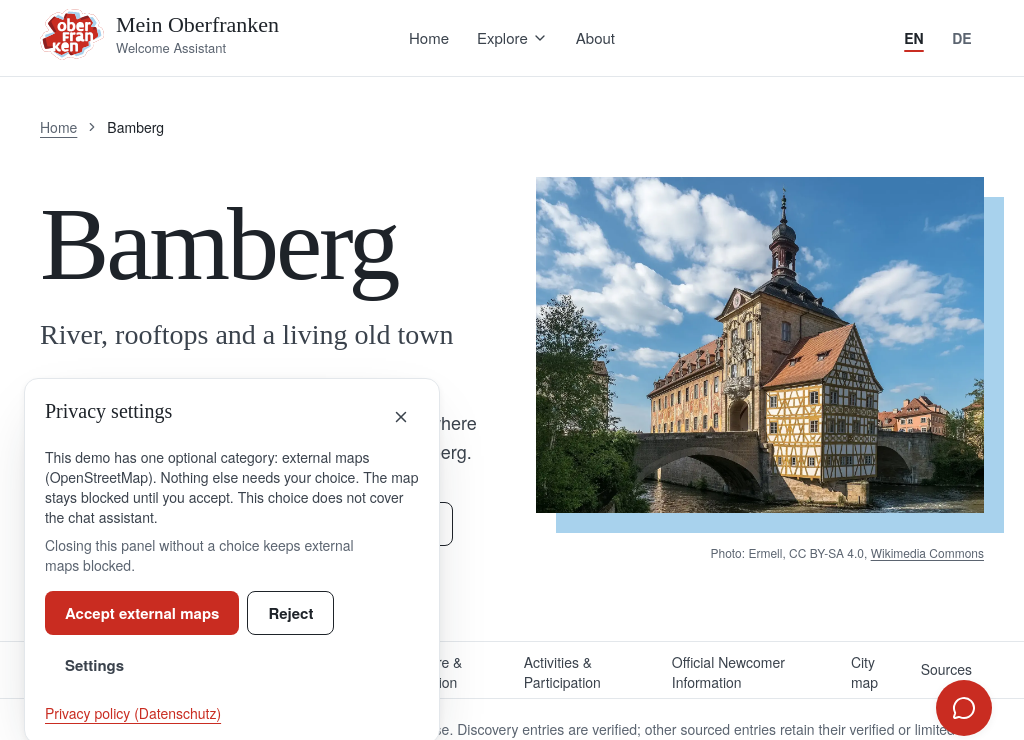
catalog-driven discovery on bamberg › in de › shows every restaurant with all required facts, exactly as the catalog has them
Click the button with aria-label "Deutsch" at (962, 38), box [940,16,984,60]
(page scrolled)
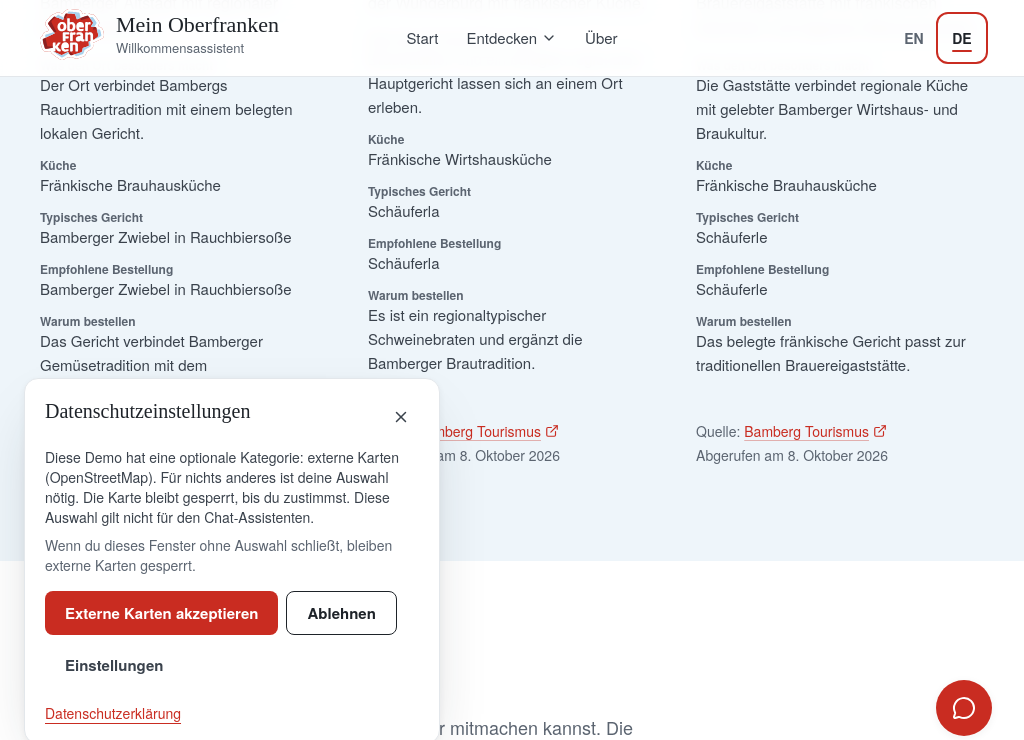
Now the text "Der Ort verbindet Bambergs Rauchbiertradition mit einem belegten lokalen Gericht." is shown, box [40,74,292,143]
Now the 1st text "Fränkische Brauhausküche" is shown, box [40,174,221,195]
Now the 1st text "Bamberger Zwiebel in Rauchbiersoße" is shown, box [40,225,328,249]
